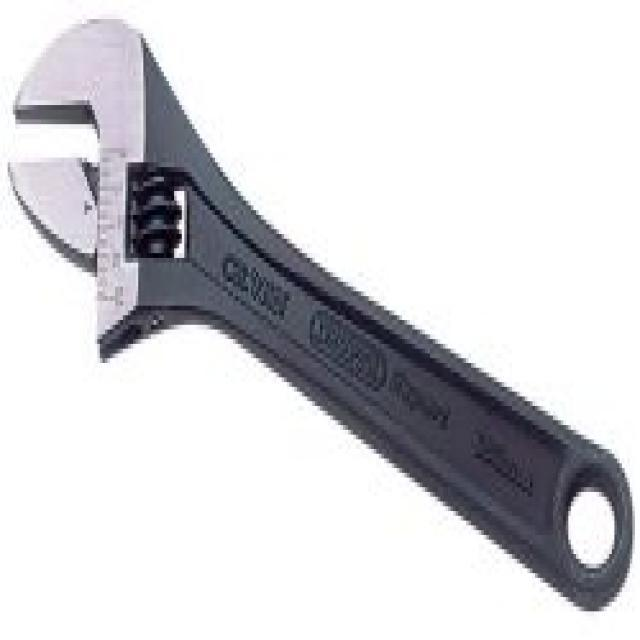wrench: (3, 8, 629, 610)
